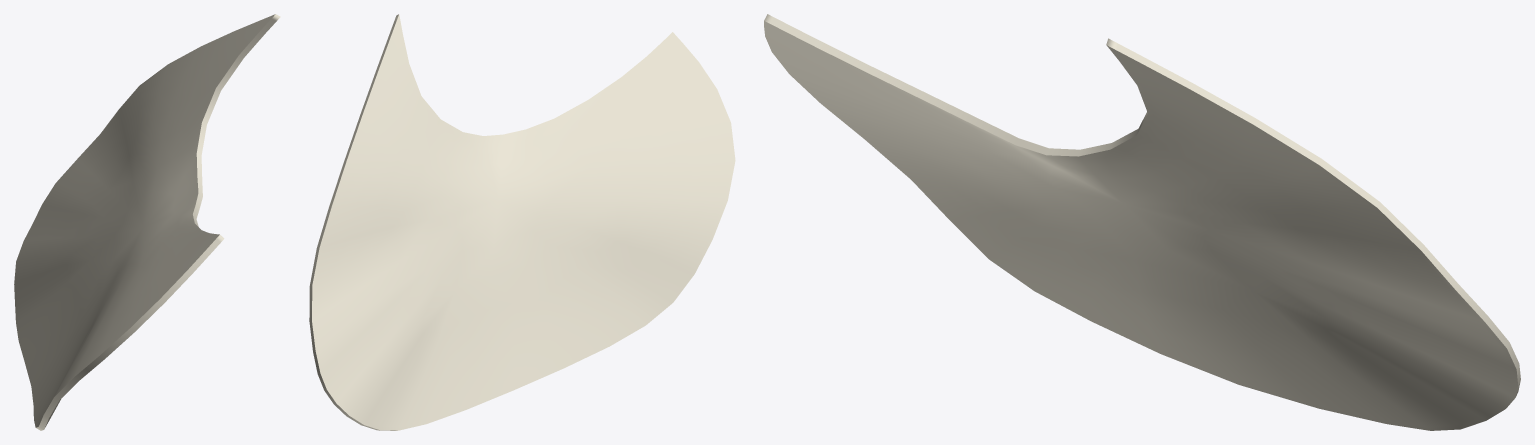
3 views of the same model, side by side, from view 1: azimuth 30°, elevation 25°; view 2: azimuth 150°, elevation 25°; view 3: azimuth 270°, elevation 25° (orthographic). The views are drawn at different scales.
Visible parts, largest first — view 1: ZA_c73748fedec6f4fc; view 2: ZA_c73748fedec6f4fc; view 3: ZA_c73748fedec6f4fc.
Boxes of the visible parts, box(x1,y1,x2,y2) form: ZA_c73748fedec6f4fc: box(14, 14, 280, 430); ZA_c73748fedec6f4fc: box(309, 14, 735, 430); ZA_c73748fedec6f4fc: box(764, 14, 1520, 430).
Bounding box in the file's own units: 0.028 × 0.0332 × 0.0483.
